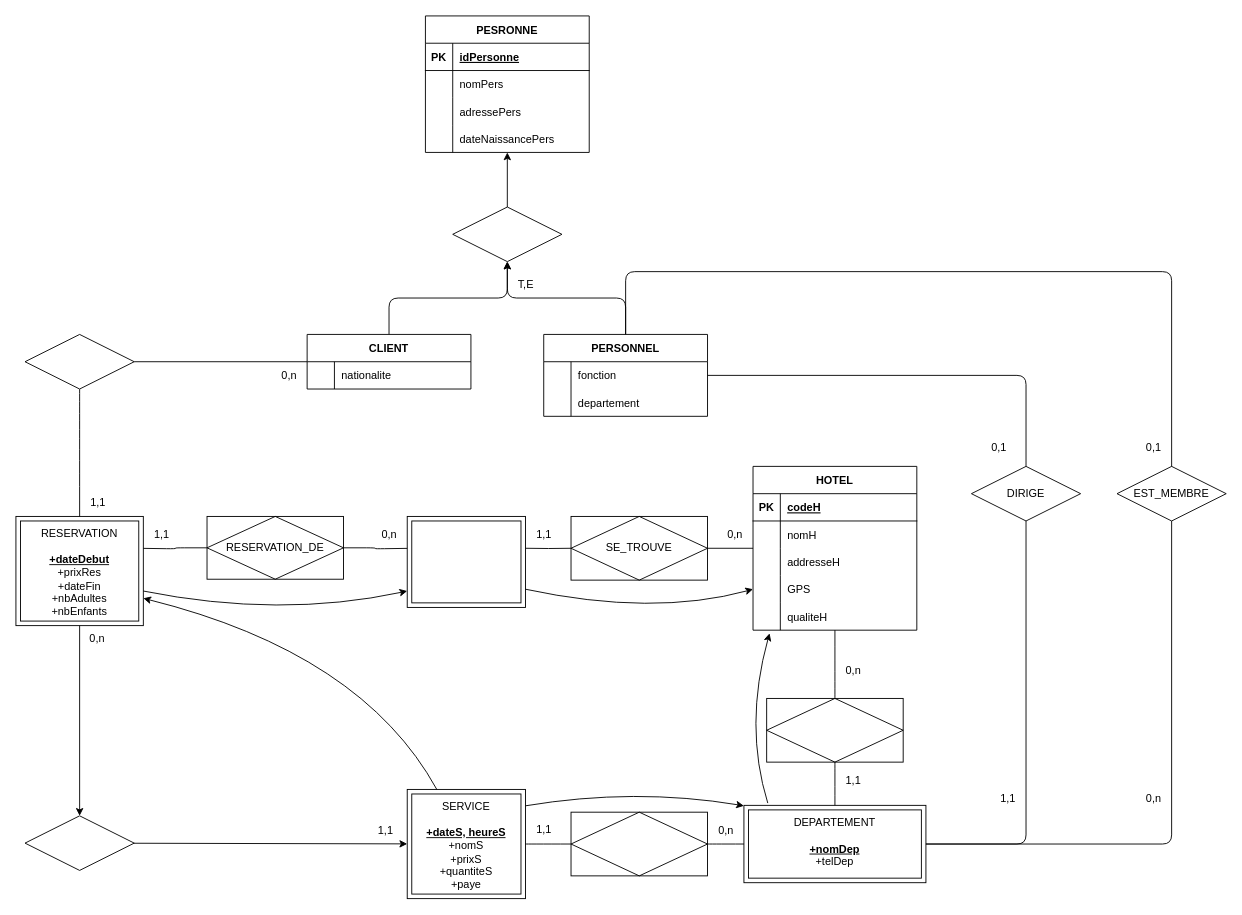
Image size: 1242x915. Some labels were removed from this diagram. Here are the shapes that lost their labels. From the top down, the centre of each, then its label:
point 507,234: IS_A
point 79,361: RESERVE
point 466,561: CHAMBRE +numC +capacite +superficie
point 834,730: DEPARTEMENT_DE
point 79,842: COMMANDE
point 639,843: SERVICE_DE
